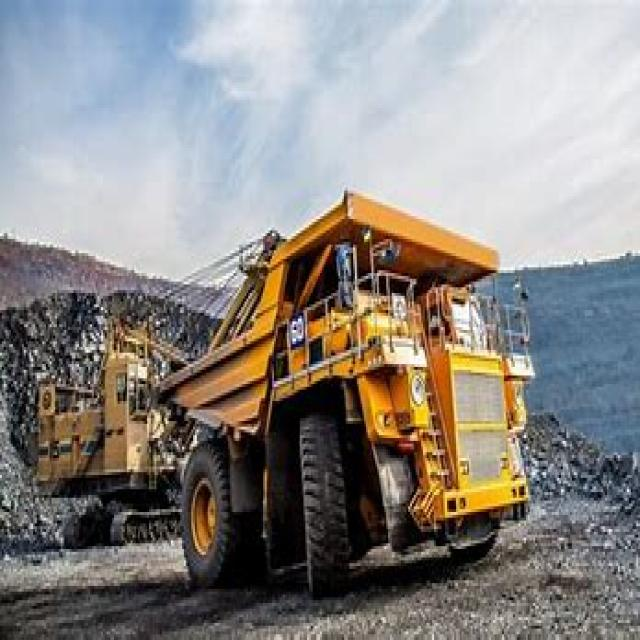dump_truck: (149, 170, 526, 612)
